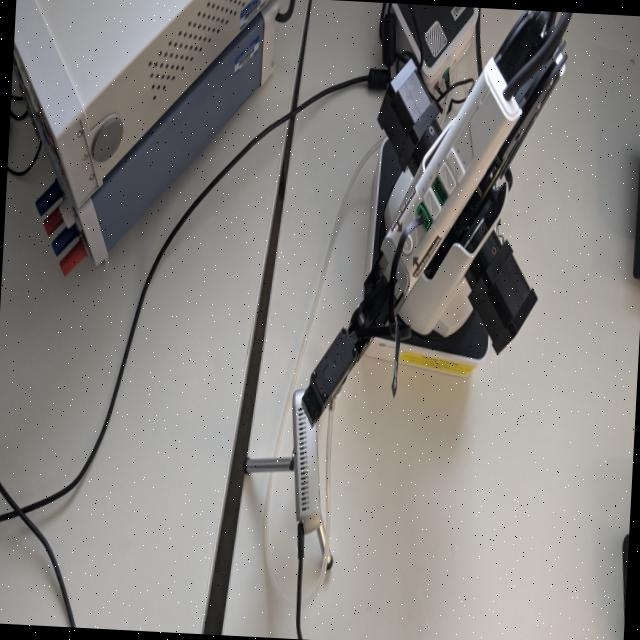Robot-end-effector-HF8z: (298, 316, 366, 434)
